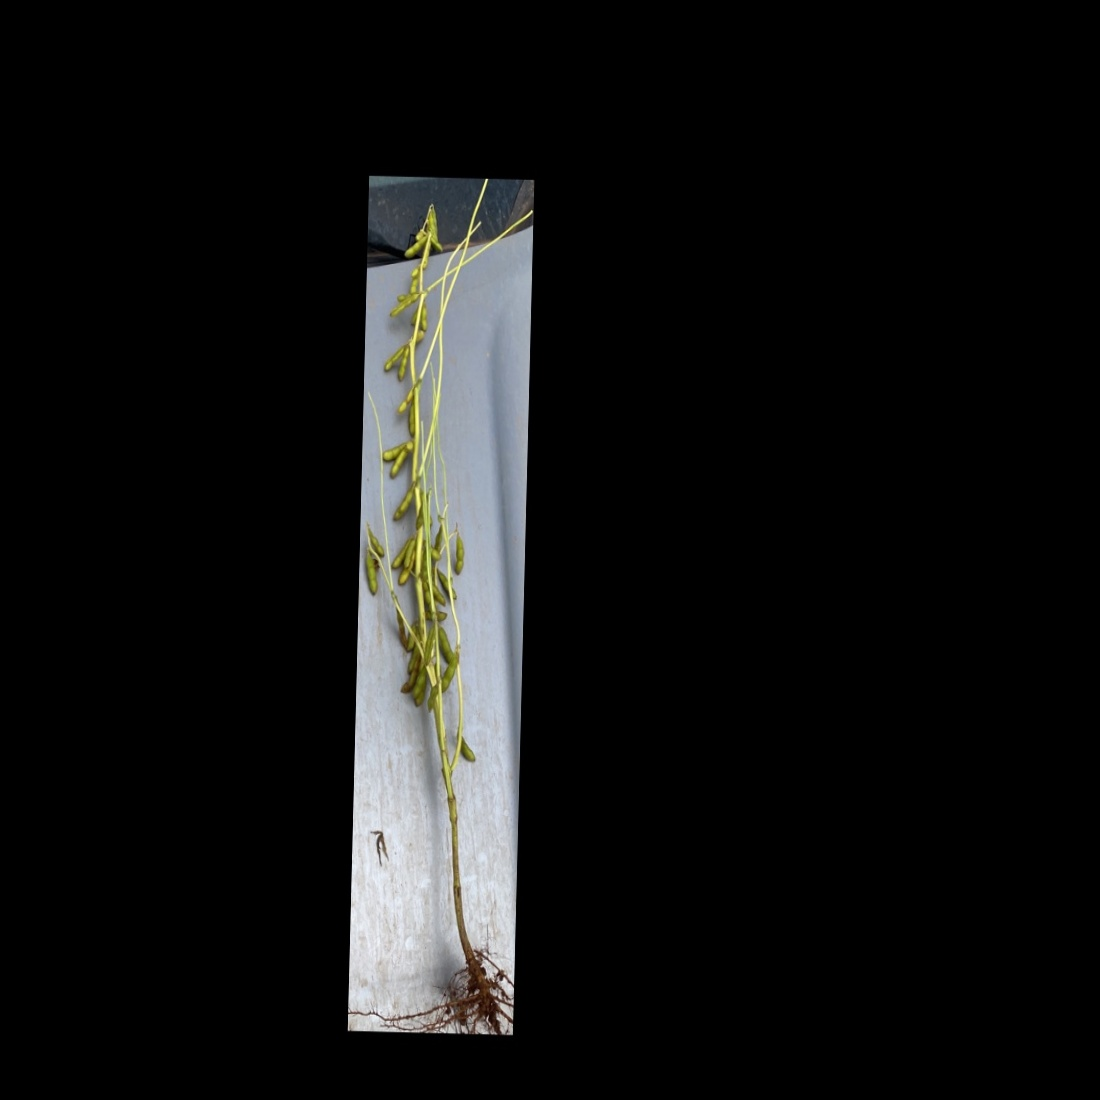pod: (440, 650, 460, 693), (364, 545, 380, 598), (391, 486, 414, 522), (454, 730, 479, 764), (452, 528, 467, 578), (401, 235, 430, 258), (396, 343, 412, 383), (425, 681, 442, 716), (367, 527, 386, 558), (429, 235, 445, 253), (420, 300, 429, 332)
soy: (352, 196, 530, 1023)
